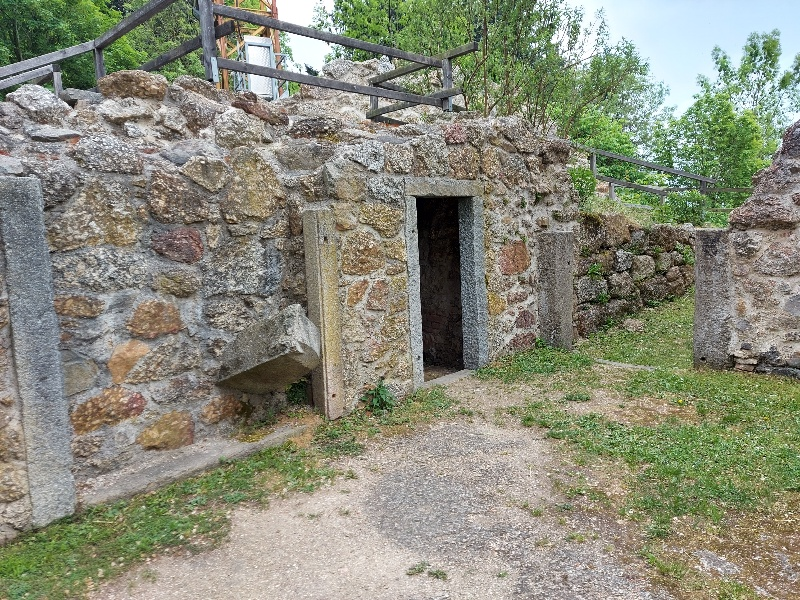door2: (395, 170, 507, 387)
